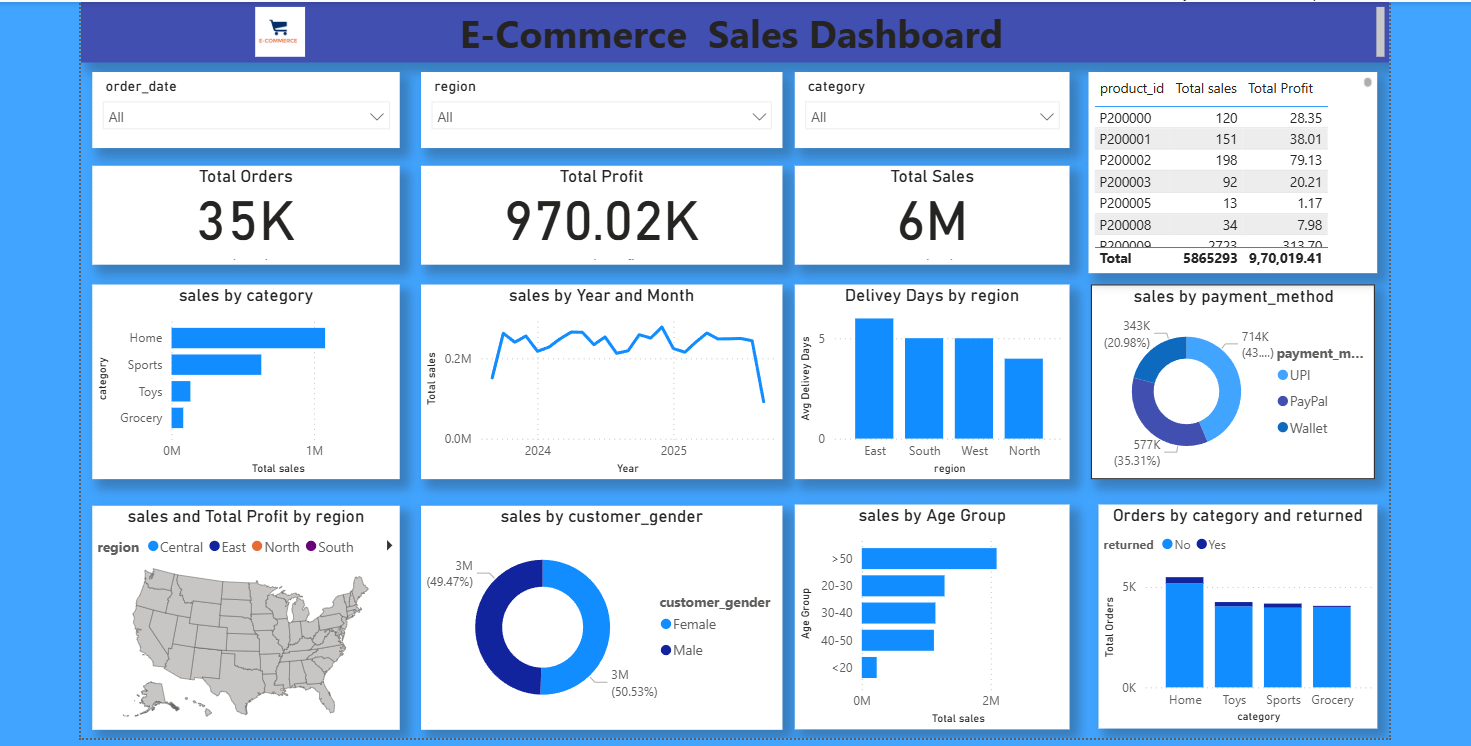

This screenshot's page, from the dashboard's own definition file:
{"tool":"powerbi","page":{"name":"Dashboard","canvas":[1280,720],"ordinal":4},"visuals":[{"type":"textbox","box":[0,0,1280.3,59],"z":0},{"type":"slicer","fields":{"Values":["ecommerce_sales_34500.order_date"]},"box":[11,68.5,300.8,74.6],"z":1000},{"type":"slicer","fields":{"Values":["ecommerce_sales_34500.region"]},"box":[332.6,68.5,353.4,74.6],"z":2000},{"type":"slicer","fields":{"Values":["ecommerce_sales_34500.category"]},"box":[698.2,68.5,269,74.6],"z":3000},{"type":"card","title":"Total Profit","fields":{"Values":["ecommerce_sales_34500.Total Profit"]},"box":[332.6,160.2,353.4,96.6],"z":4000},{"type":"card","title":"Total Sales","fields":{"Values":["ecommerce_sales_34500.Total sales"]},"box":[698.2,160.2,269,96.6],"z":5000},{"type":"card","title":"Total Orders","fields":{"Values":["ecommerce_sales_34500.Total Orders"]},"box":[11,160.2,300.8,96.6],"z":6000},{"type":"barChart","title":" sales by category","fields":{"Category":["ecommerce_sales_34500.category"],"Y":["ecommerce_sales_34500.Total sales"]},"box":[11,276.4,300.8,190.8],"z":7000},{"type":"lineChart","title":" sales by Year and Month","fields":{"Category":["ecommerce_sales_34500.order_date.Variation.Date Hierarchy.Year","ecommerce_sales_34500.order_date.Variation.Date Hierarchy.Month"],"Y":["ecommerce_sales_34500.Total sales"]},"box":[332.6,276.4,353.4,190.8],"z":8000},{"type":"donutChart","title":"sales by payment_method","fields":{"Category":["ecommerce_sales_34500.payment_method"],"Y":["ecommerce_sales_34500.Total sales"]},"box":[990.5,288.6,283.7,190.8],"z":9000},{"type":"shapeMap","title":"sales and Total Profit by region","fields":{"Series":["ecommerce_sales_34500.region"],"Value":["ecommerce_sales_34500.Total sales"]},"box":[11,492.8,300.8,218.9],"z":10000},{"type":"donutChart","title":"sales by customer_gender","fields":{"Category":["ecommerce_sales_34500.customer_gender"],"Y":["ecommerce_sales_34500.Total sales"]},"box":[332.6,492.8,353.4,218.9],"z":11000},{"type":"clusteredBarChart","title":" sales by Age Group","fields":{"Category":["ecommerce_sales_34500.Age Group"],"Y":["ecommerce_sales_34500.Total sales"]},"box":[698.2,491.6,269,220.1],"z":12000},{"type":"columnChart","title":"Delivey Days by region","fields":{"Category":["ecommerce_sales_34500.region"],"Y":["ecommerce_sales_34500.Avg Delivey Days"]},"box":[698.2,276.4,269,190.8],"z":13000},{"type":"tableEx","fields":{"Values":["ecommerce_sales_34500.product_id","ecommerce_sales_34500.Total sales","ecommerce_sales_34500.Total Profit"]},"box":[985.6,68.5,282.5,196.9],"z":14000},{"type":"columnChart","title":" Orders by category and returned","fields":{"Category":["ecommerce_sales_34500.category"],"Series":["ecommerce_sales_34500.returned"],"Y":["ecommerce_sales_34500.Total Orders"]},"box":[995.4,491.6,272.7,218.9],"z":15000},{"type":"image","box":[0,0,390.1,58.7],"z":16000}]}

Visuals, with their boxes in screenshot pixels (x1, y1, x2, y2):
textbox: bbox=(77, 0, 1387, 60)
slicer - ecommerce_sales_34500.order_date: bbox=(88, 70, 396, 146)
slicer - ecommerce_sales_34500.region: bbox=(417, 70, 778, 146)
slicer - ecommerce_sales_34500.category: bbox=(791, 70, 1066, 146)
"Total Profit" card: bbox=(417, 164, 778, 263)
"Total Sales" card: bbox=(791, 164, 1066, 263)
"Total Orders" card: bbox=(88, 164, 396, 263)
" sales by category" barChart: bbox=(88, 283, 396, 478)
" sales by Year and Month" lineChart: bbox=(417, 283, 778, 478)
"sales by payment_method" donutChart: bbox=(1090, 295, 1380, 490)
"sales and Total Profit by region" shapeMap: bbox=(88, 504, 396, 728)
"sales by customer_gender" donutChart: bbox=(417, 504, 778, 728)
" sales by Age Group" clusteredBarChart: bbox=(791, 503, 1066, 728)
"Delivey Days by region" columnChart: bbox=(791, 283, 1066, 478)
tableEx - ecommerce_sales_34500.product_id x ecommerce_sales_34500.Total sales: bbox=(1085, 70, 1374, 272)
" Orders by category and returned" columnChart: bbox=(1095, 503, 1374, 727)
image: bbox=(77, 0, 476, 60)
